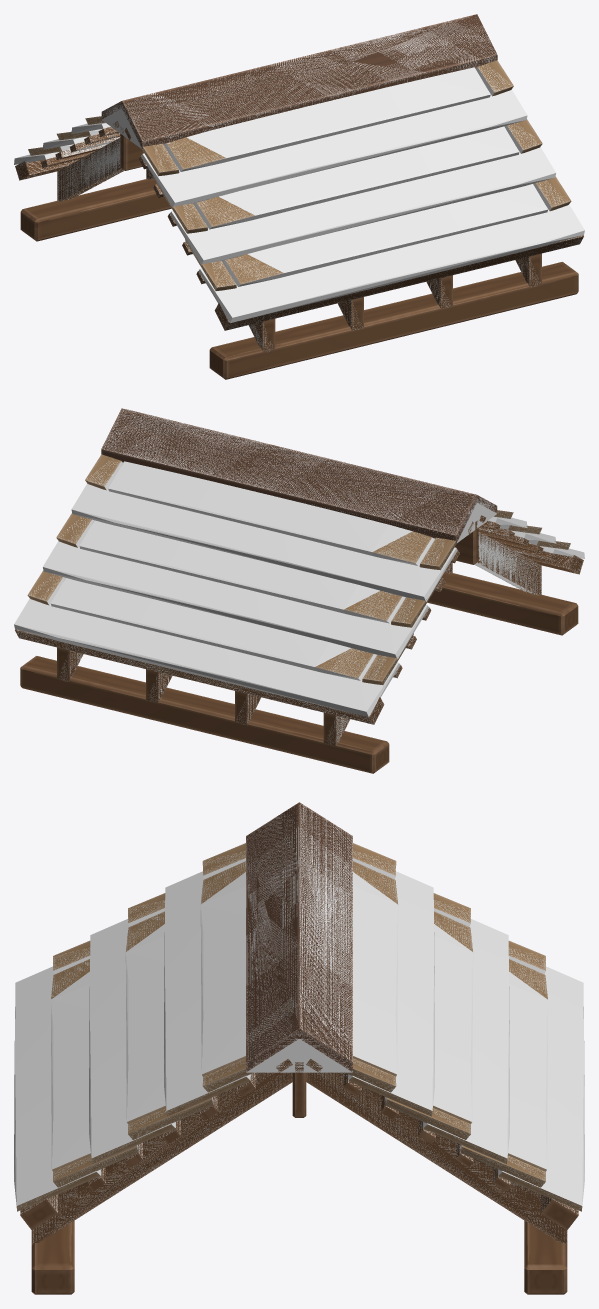
The model's file is roof_section.glb.
3 views of the same model, one above another, from view 1: azimuth 30°, elevation 25°; view 2: azimuth 150°, elevation 25°; view 3: azimuth 270°, elevation 25° (orthographic). The views are drawn at different scales.
Visible parts, largest first — view 1: ridge_cap, COL_roof_section_25, wall_plate_front, COL_roof_section_27, COL_roof_section_29, COL_roof_section_35, COL_roof_section_31, COL_roof_section_33, COL_roof_section_49, wall_plate_back, eave_board_front, COL_roof_section_03 (+17 smaller); view 2: ridge_cap, COL_roof_section_26, wall_plate_back, COL_roof_section_28, COL_roof_section_30, COL_roof_section_49, COL_roof_section_36, COL_roof_section_32, COL_roof_section_34, wall_plate_front, eave_board_back, COL_roof_section_04 (+17 smaller); view 3: ridge_cap, COL_roof_section_49, COL_roof_section_27, COL_roof_section_25, COL_roof_section_28, COL_roof_section_26, COL_roof_section_29, COL_roof_section_30, COL_roof_section_35, COL_roof_section_36, COL_roof_section_32, COL_roof_section_34 (+25 smaller).
Part boxes in pixels (x1,y1,x2,y2): ridge_cap: [101, 14, 497, 149]; COL_roof_section_25: [198, 204, 584, 323]; wall_plate_front: [209, 262, 578, 379]; COL_roof_section_27: [170, 147, 555, 265]; COL_roof_section_29: [141, 89, 527, 207]; COL_roof_section_35: [164, 67, 490, 171]; COL_roof_section_31: [222, 184, 548, 286]; COL_roof_section_33: [193, 126, 519, 229]; COL_roof_section_49: [101, 17, 497, 149]; wall_plate_back: [20, 178, 171, 241]; eave_board_front: [214, 235, 583, 330]; COL_roof_section_03: [57, 138, 123, 200]; ridge_cap: [101, 408, 497, 543]; COL_roof_section_26: [14, 598, 400, 717]; wall_plate_back: [20, 656, 389, 773]; COL_roof_section_28: [43, 541, 428, 659]; COL_roof_section_30: [71, 483, 457, 601]; COL_roof_section_49: [102, 408, 496, 542]; COL_roof_section_36: [108, 461, 434, 565]; COL_roof_section_32: [50, 578, 376, 680]; COL_roof_section_34: [79, 520, 405, 623]; wall_plate_front: [427, 572, 578, 635]; eave_board_back: [15, 629, 384, 724]; COL_roof_section_04: [474, 532, 541, 595]; ridge_cap: [246, 802, 352, 1072]; COL_roof_section_49: [246, 804, 352, 1072]; COL_roof_section_27: [89, 919, 175, 1163]; COL_roof_section_25: [14, 966, 100, 1210]; COL_roof_section_28: [423, 919, 509, 1162]; COL_roof_section_26: [498, 966, 584, 1208]; COL_roof_section_29: [164, 871, 250, 1114]; COL_roof_section_30: [348, 871, 434, 1115]; COL_roof_section_35: [200, 861, 245, 1074]; COL_roof_section_36: [353, 865, 398, 1074]; COL_roof_section_32: [508, 962, 547, 1169]; COL_roof_section_34: [433, 916, 473, 1121].
Bounding box in the file's own units: 2 × 1.1 × 2.13.
Materials: 3 (3 with a texture image).
